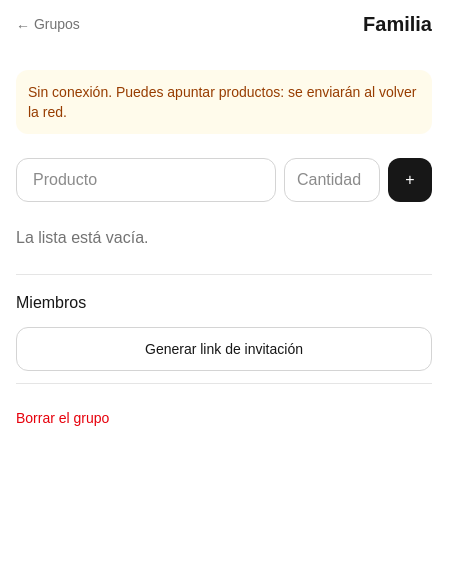
Test: Spec J · el enlace de invitación se comparte › j11: sin compartir disponible, se pinta Copiar y copia el enlace
The image size is (449, 567).
Click the button with test id "create-invite": (224, 349) [16,327,432,371]
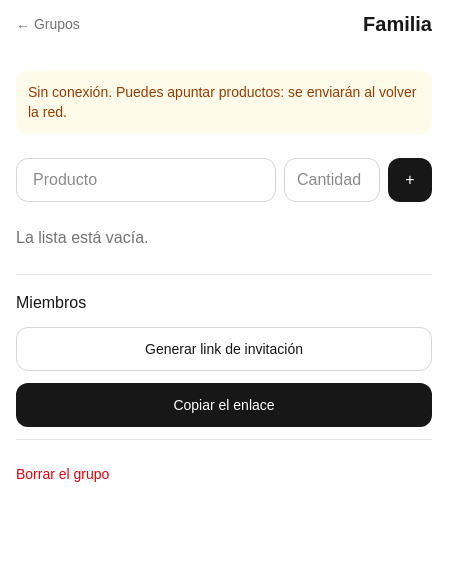
Click the button with test id "copy-invite": (224, 405) [16,383,432,427]
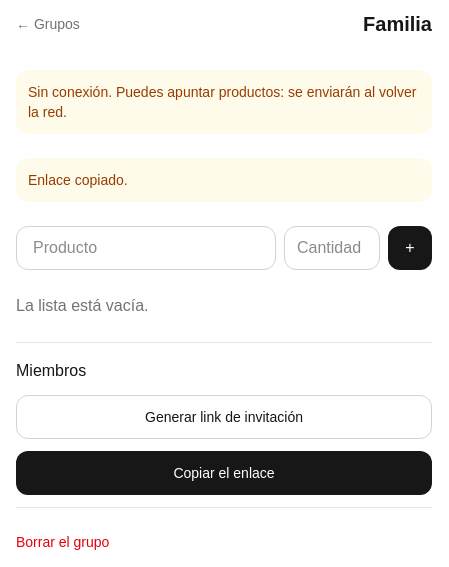
Result: the message with test id "notice" reads "Enlace copiado." at [28,172,128,188]
